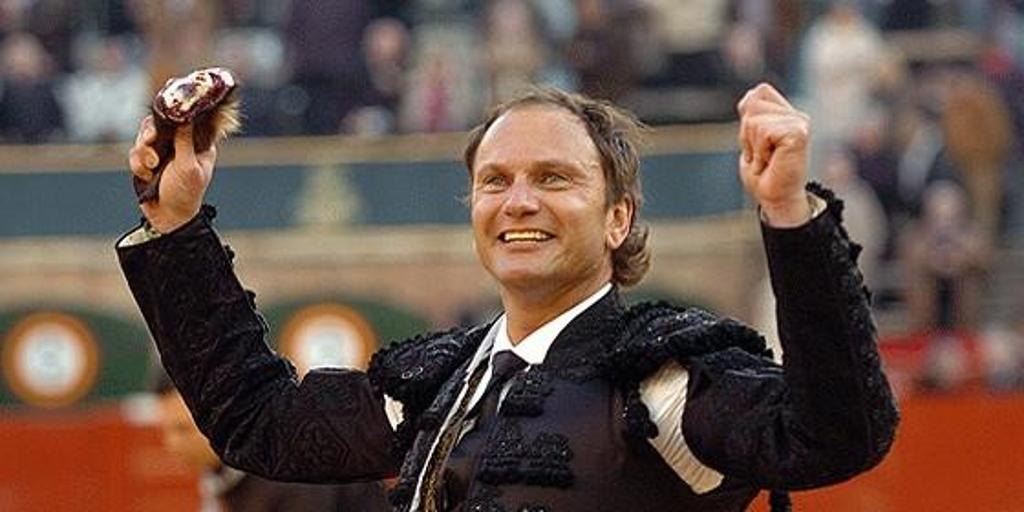face: (470, 130, 598, 280)
